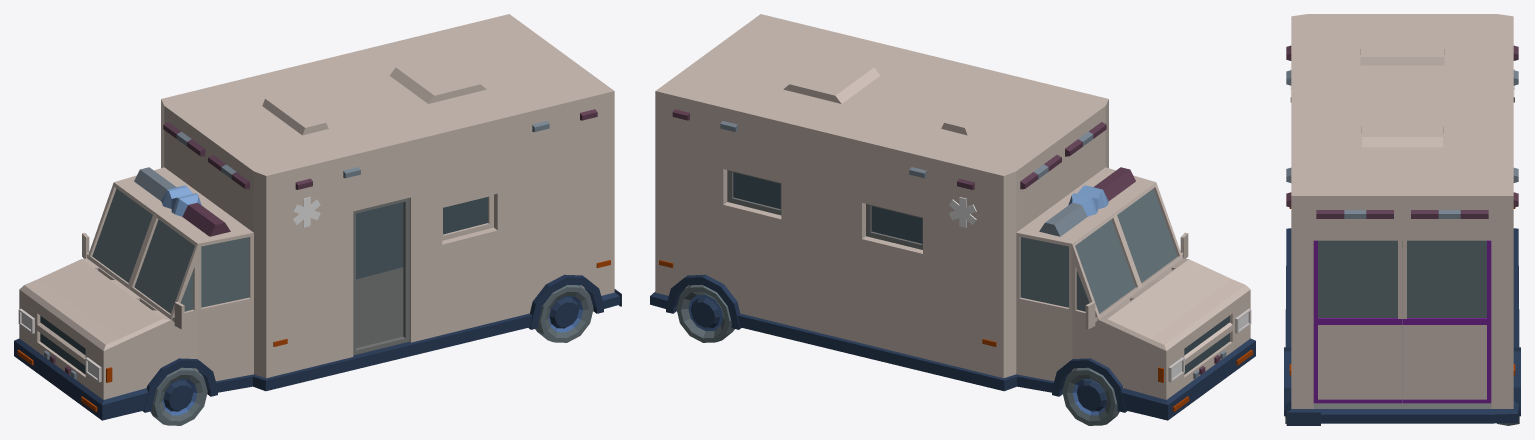
File: ambulancetruck.glb
3 views of the same model, side by side, from view 1: azimuth 30°, elevation 25°; view 2: azimuth 150°, elevation 25°; view 3: azimuth 270°, elevation 25° (orthographic). The views are drawn at different scales.
Parts seen in each view (by area): view 1: Ambulance-Truck, Ambulance-Truck_TireFL, Ambulance-Truck_TireBL; view 2: Ambulance-Truck, Ambulance-Truck_TireFR, Ambulance-Truck_TireBR; view 3: Ambulance-Truck.
Boxes of the visible parts, box(x1,y1,x2,y2) form: Ambulance-Truck: box(14, 14, 621, 420); Ambulance-Truck_TireFL: box(150, 367, 207, 425); Ambulance-Truck_TireBL: box(535, 285, 593, 342); Ambulance-Truck: box(650, 14, 1255, 420); Ambulance-Truck_TireFR: box(1062, 367, 1119, 425); Ambulance-Truck_TireBR: box(676, 284, 734, 342); Ambulance-Truck: box(1284, 14, 1520, 425).
Bounding box in the file's own units: 2.24 × 1.03 × 0.8509.
1 material, 1 textured.
